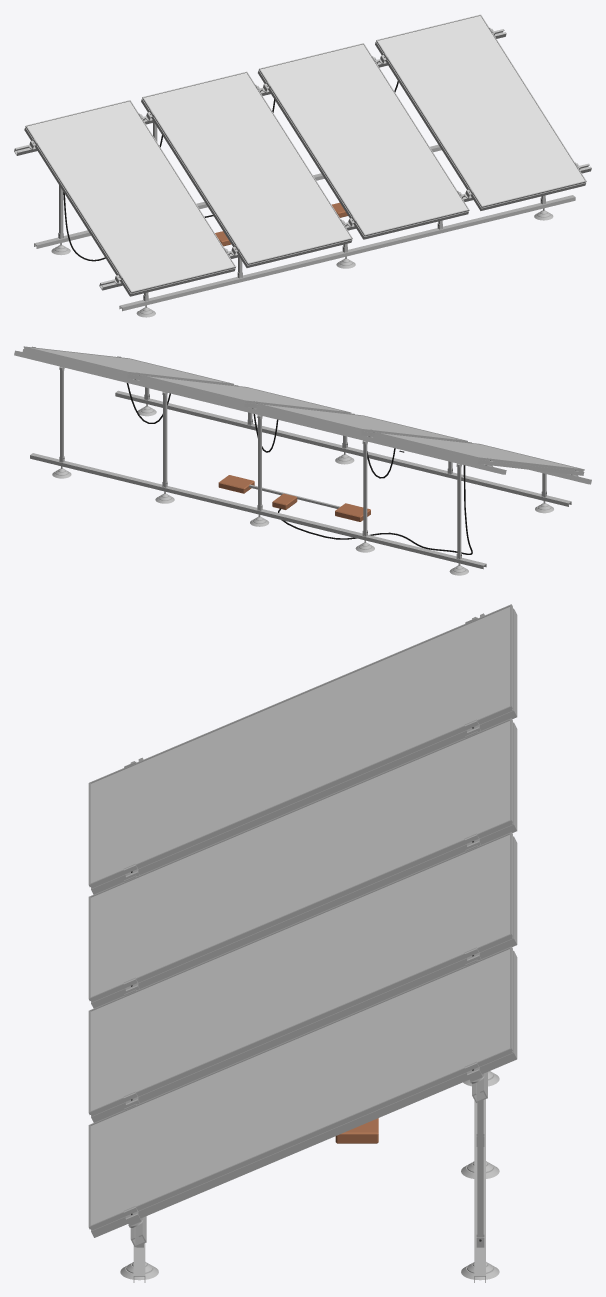
Rendered from sun.glb.
3 renders of one model, top to bottom at view 1: azimuth 30°, elevation 25°; view 2: azimuth 150°, elevation 25°; view 3: azimuth 270°, elevation 25°, orthographic. The views are drawn at different scales.
Visible parts, largest first — view 1: solar_cell, metal; view 2: metal, solar_cell, orange, cable; view 3: solar_cell, metal.
Boxes of the visible parts, x1,y1,x2,y2 form: solar_cell: [27, 15, 584, 291]; metal: [14, 14, 591, 317]; metal: [14, 346, 591, 575]; solar_cell: [30, 347, 577, 468]; orange: [218, 475, 370, 521]; cable: [126, 383, 472, 554]; solar_cell: [91, 607, 509, 1225]; metal: [88, 604, 517, 1282].
Size of the model in its own units: 7.27 by 1.8 by 2.76.
